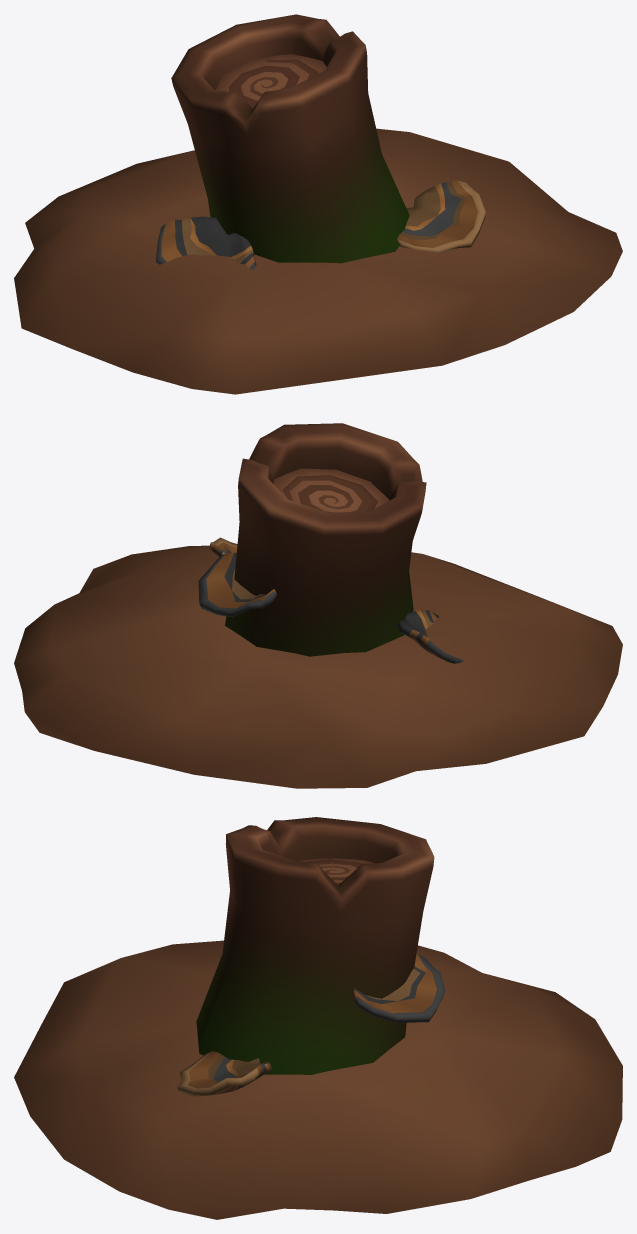
File: SM_PlantSoil_TurkeyTail_Dead.fbx
The picture shows the model from 3 angles, top to bottom: view 1: azimuth 30°, elevation 25°; view 2: azimuth 150°, elevation 25°; view 3: azimuth 270°, elevation 25°; orthographic projection. The views are drawn at different scales.
Visible parts, largest first — view 1: SM_PlantSoil_TurkeyTail_Dead; view 2: SM_PlantSoil_TurkeyTail_Dead; view 3: SM_PlantSoil_TurkeyTail_Dead.
Part boxes in pixels (<box>): SM_PlantSoil_TurkeyTail_Dead: <box>14,14,622,394</box>; SM_PlantSoil_TurkeyTail_Dead: <box>14,423,622,788</box>; SM_PlantSoil_TurkeyTail_Dead: <box>14,817,622,1219</box>.
Bounding box in the file's own units: 118 × 51.64 × 106.
